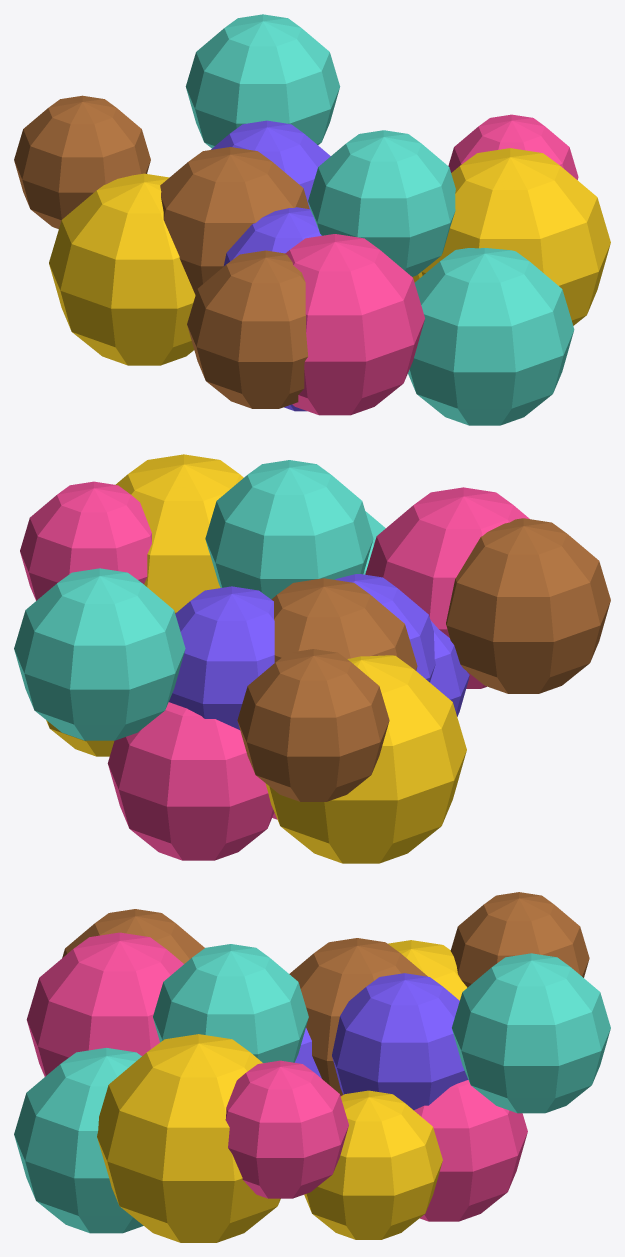
File: plush-pile.glb
The picture shows the model from 3 angles, top to bottom: view 1: azimuth 30°, elevation 25°; view 2: azimuth 150°, elevation 25°; view 3: azimuth 270°, elevation 25°; orthographic projection. The views are drawn at different scales.
Visible parts, largest first — view 1: plush-pile; view 2: plush-pile; view 3: plush-pile.
Boxes of the visible parts, left/top/right/bottom form: plush-pile: left=14, top=14, right=610, bottom=425; plush-pile: left=14, top=454, right=610, bottom=863; plush-pile: left=14, top=892, right=610, bottom=1242.
Size of the model in its own units: 2.75 by 1.6 by 3.11.
